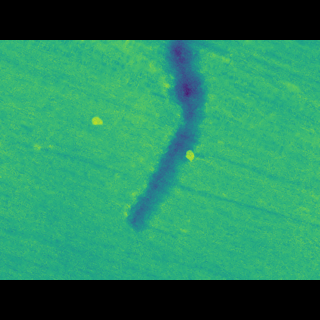Loch: (116, 69, 237, 214)
